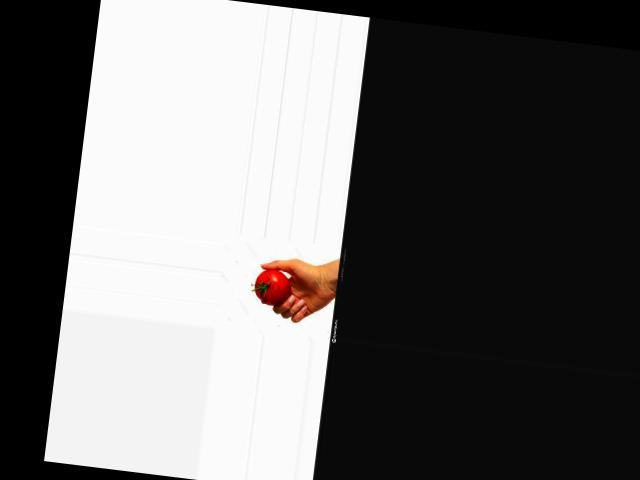tomato: (252, 267, 293, 306)
